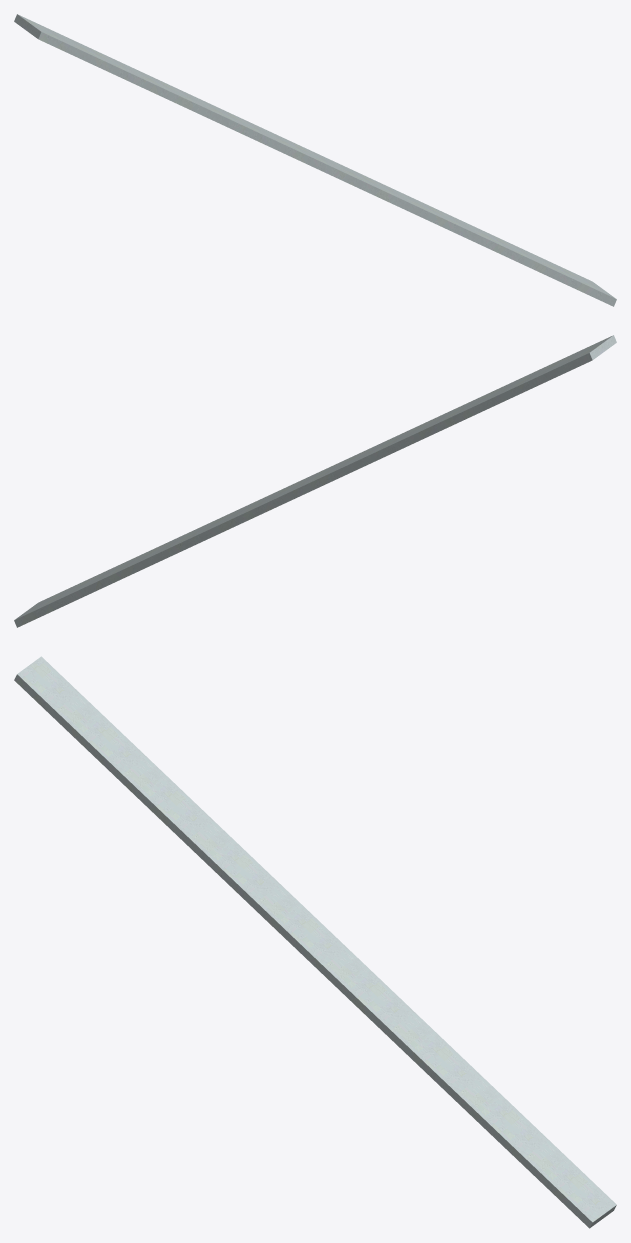
File: zcb003-geode.glb
3 renders of one model, top to bottom at view 1: azimuth 30°, elevation 25°; view 2: azimuth 150°, elevation 25°; view 3: azimuth 330°, elevation 25°, orthographic.
Parts seen in each view (by area): view 1: Node; view 2: Node; view 3: Node.
Part boxes in pixels (x1=…): Node: x1=14, y1=14, x2=616, y2=306; Node: x1=14, y1=335, x2=616, y2=627; Node: x1=14, y1=656, x2=616, y2=1228.
Bounding box in the file's own units: 1.58 × 1.09 × 0.1153.
Materials: 1 (1 with a texture image).
